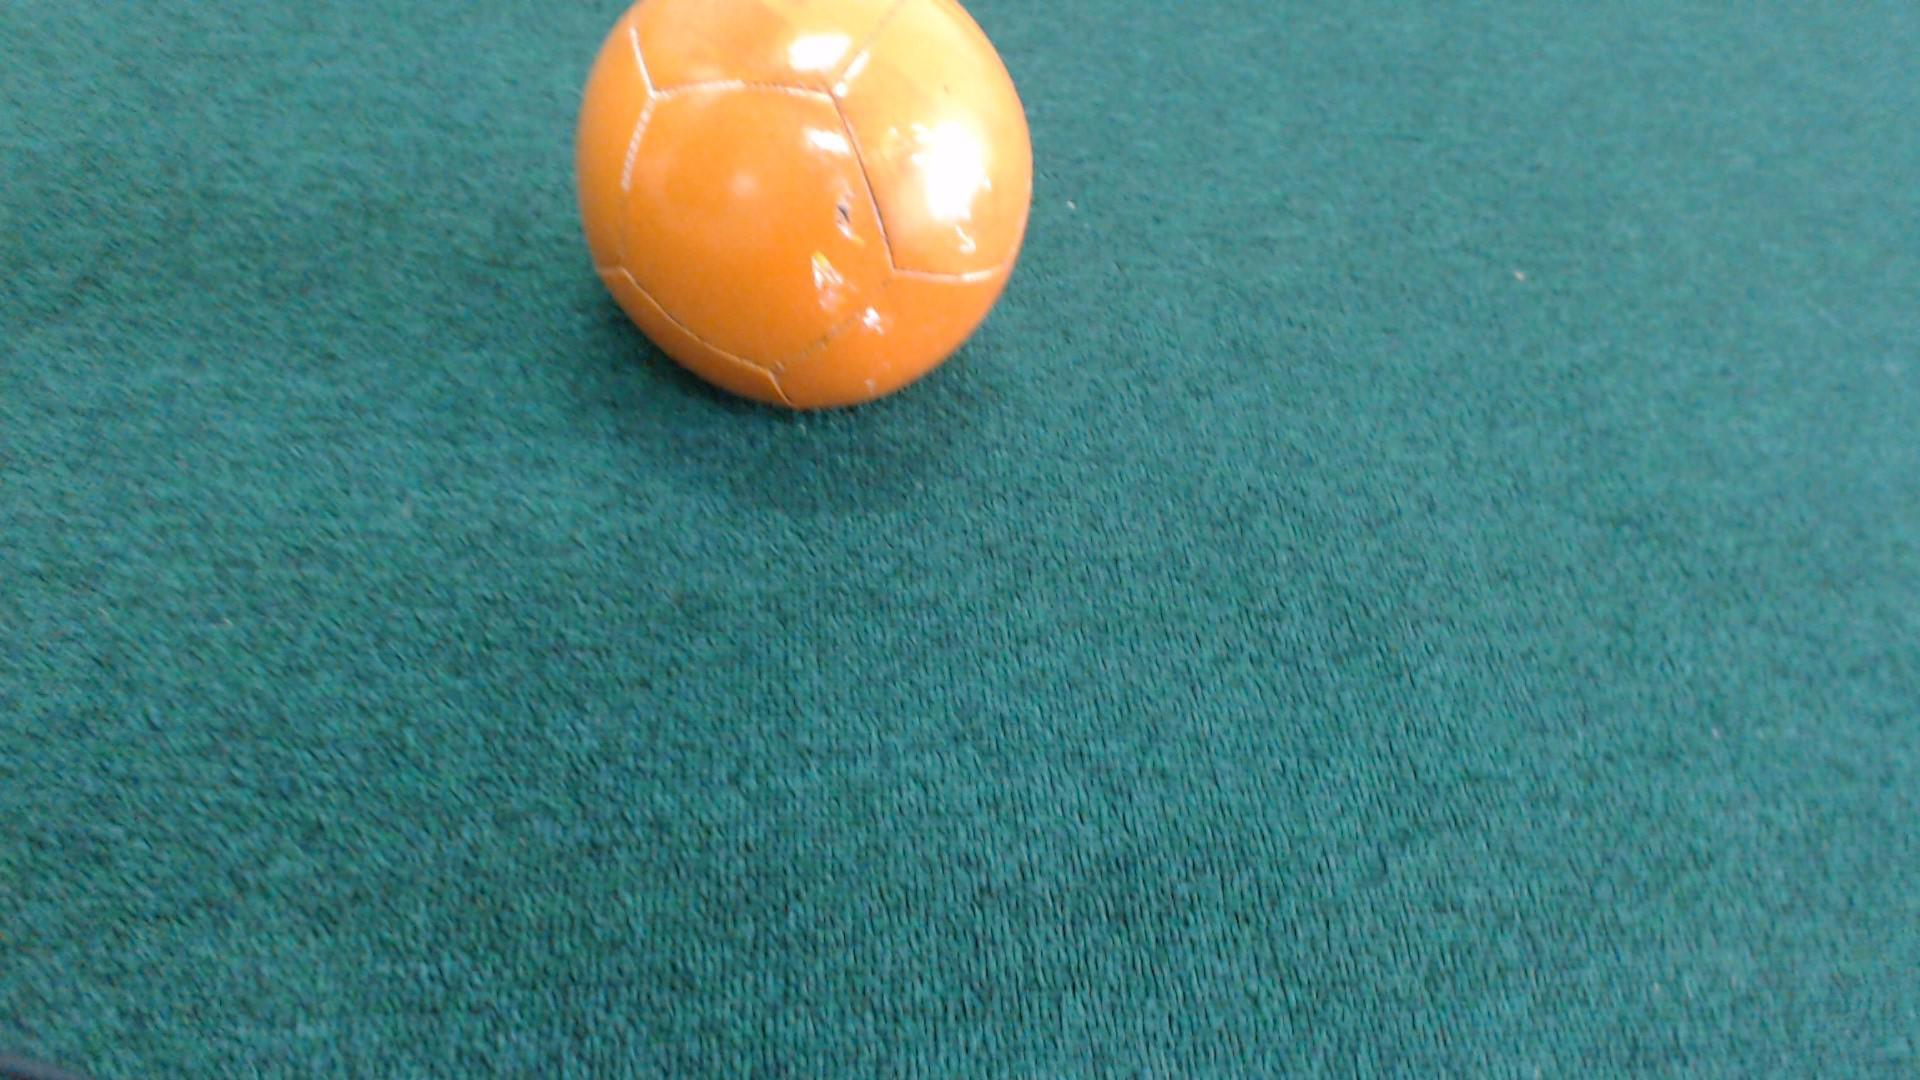bola: (542, 0, 1050, 422)
